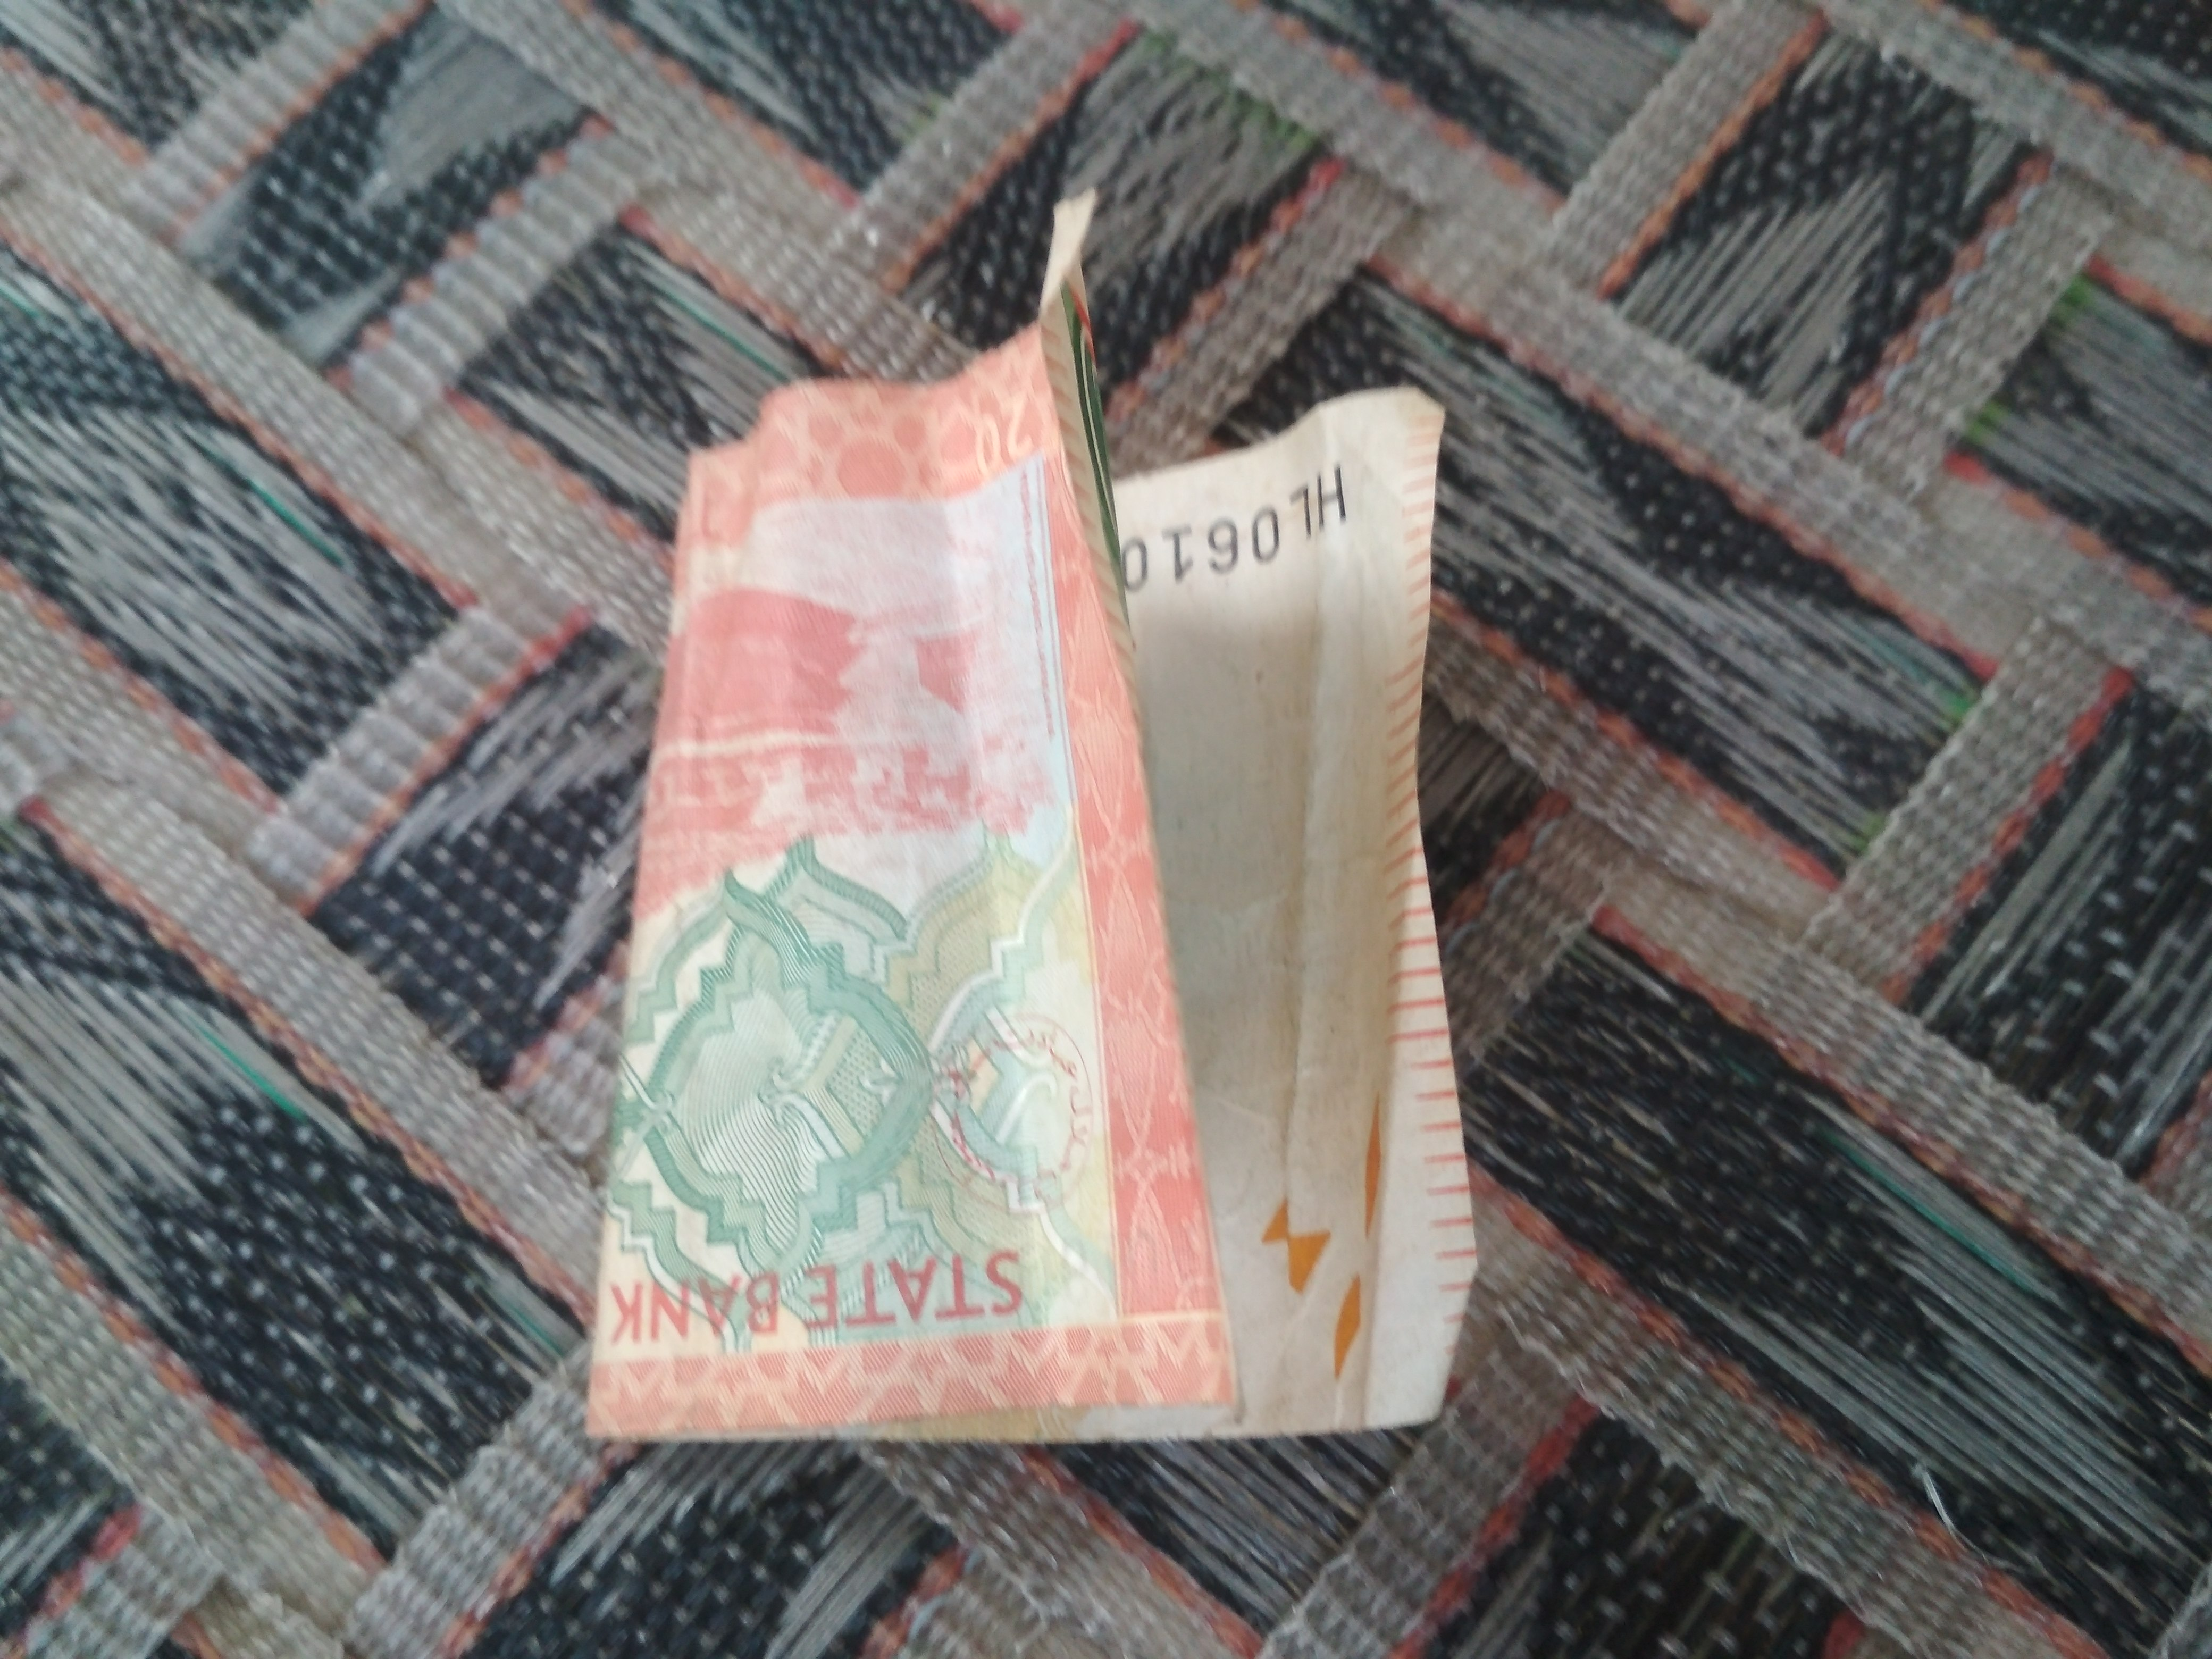20 rupee: (545, 199, 1512, 1443)
